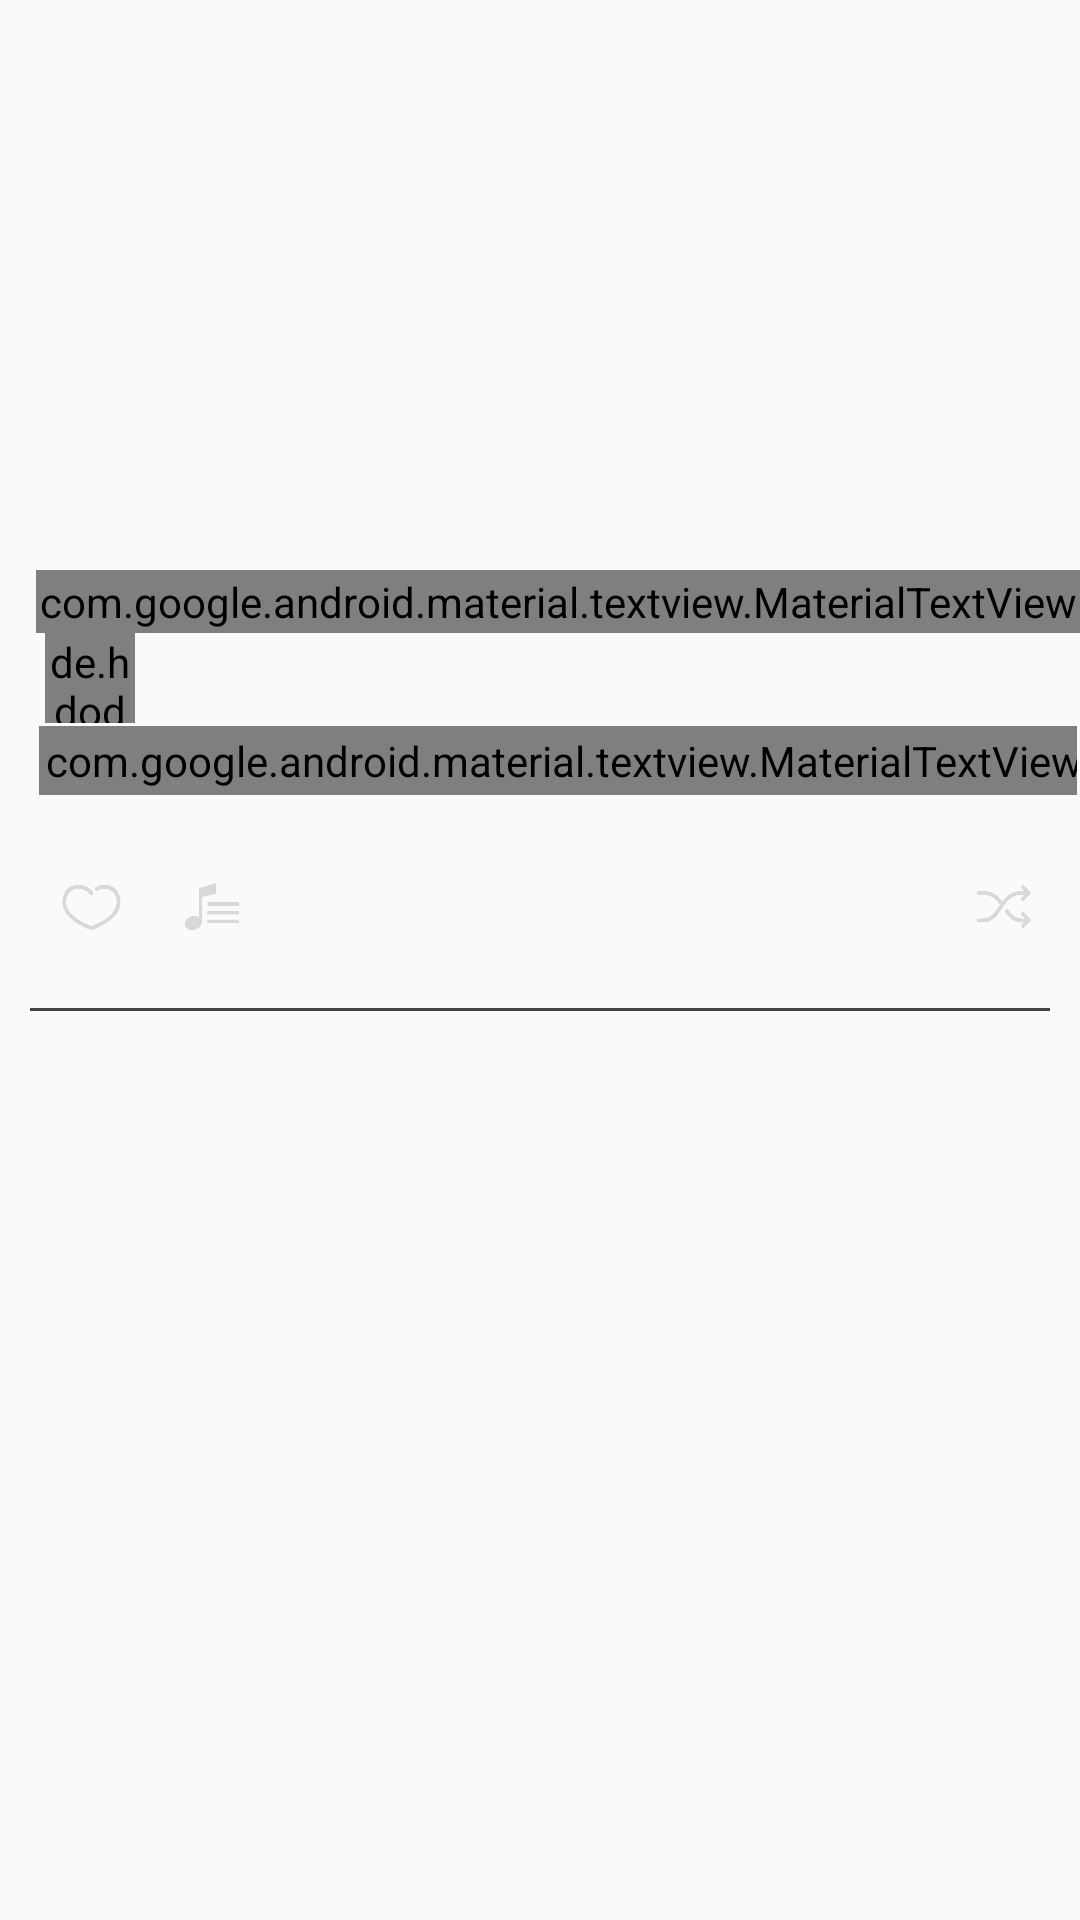

Icon click points for this 1080*1920 phone screenshot, format (x=x, y=y):
favorites: (x=91, y=907)
playlist: (x=212, y=906)
shuffle song: (x=1004, y=906)
